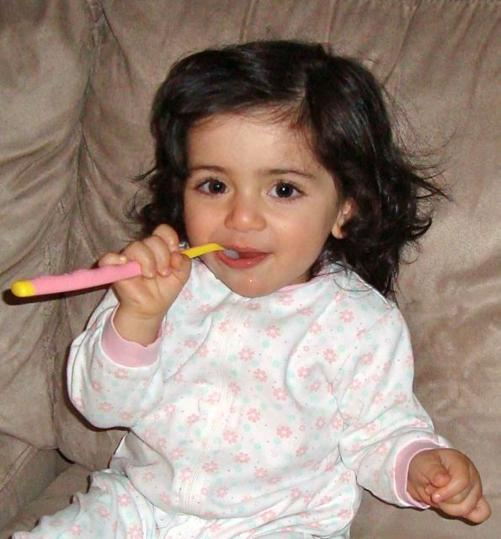person: (12, 35, 492, 539)
